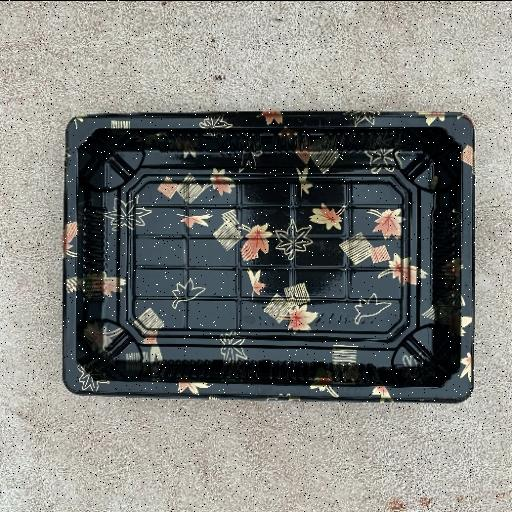Plastic: (62, 110, 472, 400)
